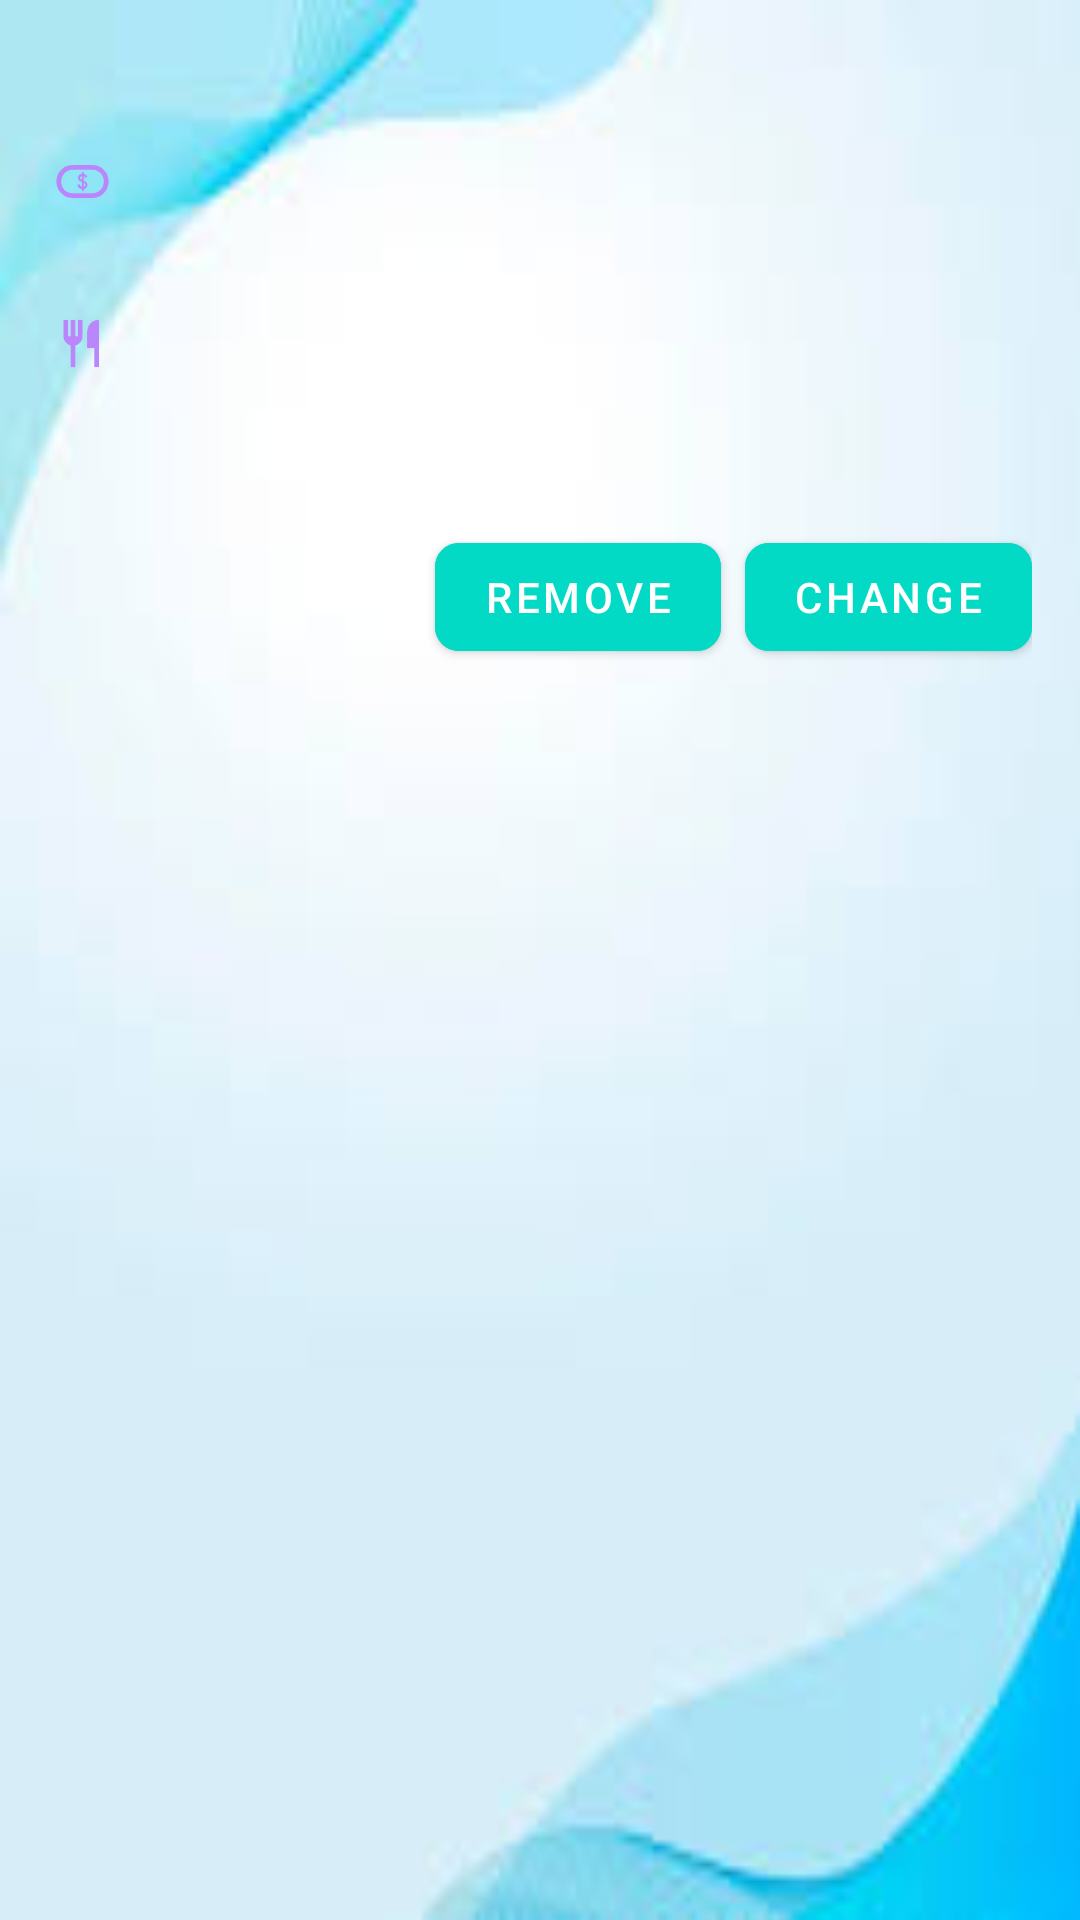

Icons on this 1080w x 1920h Android screen, each with the point to tap as point (x, y):
Price: point (82, 181)
restaurant: point (82, 343)
